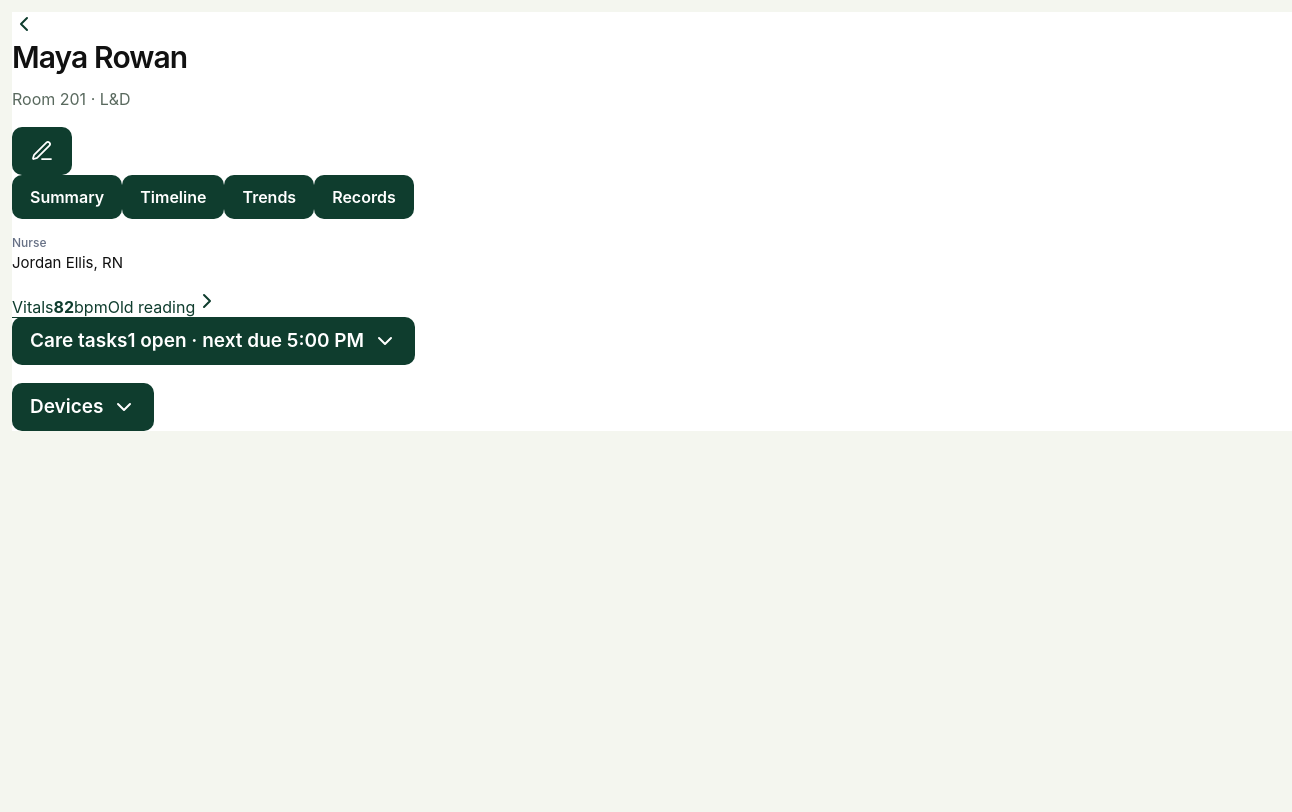
Test: Bedside mobile redesign › exposes pending-task summaries and existing task actions
Step 1. Click the button "Care tasks1 open · next due 5:00 PM" → (214, 341), box [12,317,415,365]
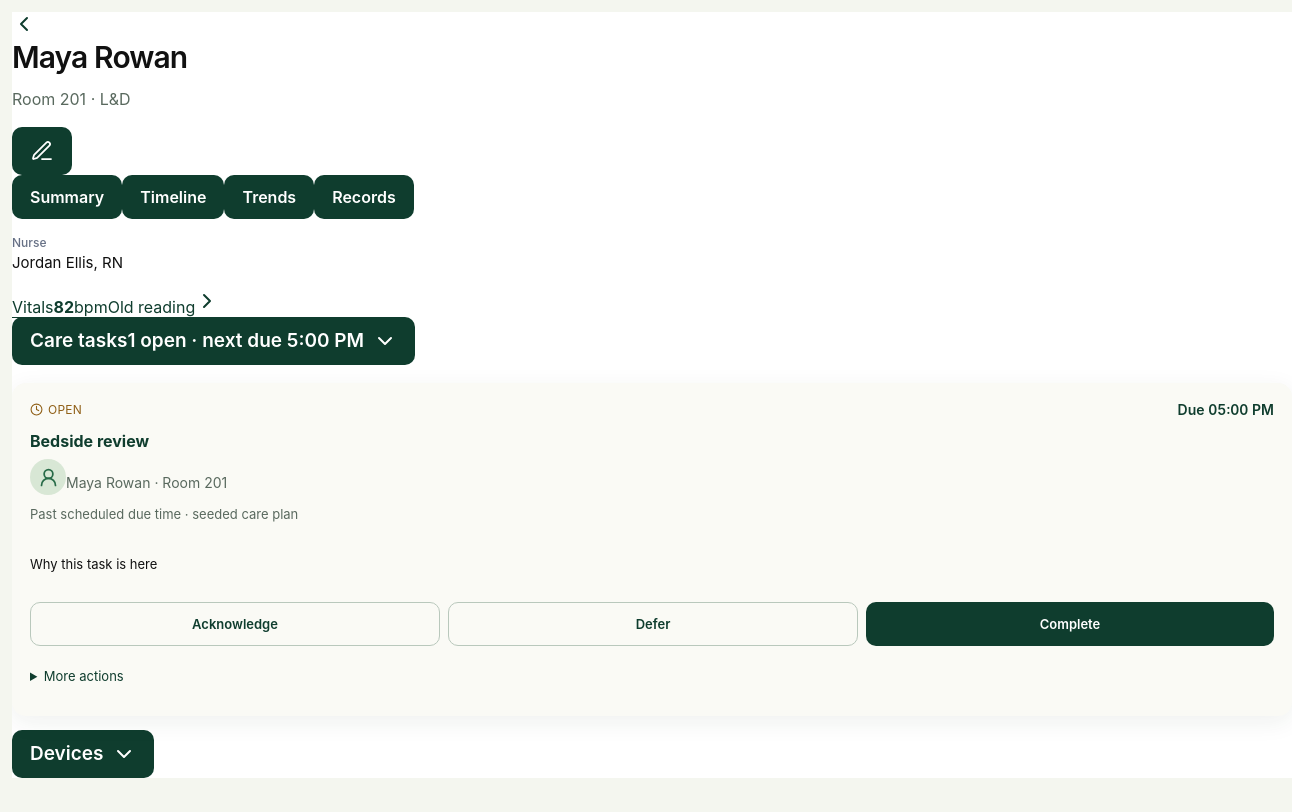
expect the button "Acknowledge" is shown: met, box [30,602,440,646]
expect the button "Complete" is shown: met, box [866,602,1274,646]
expect the button "Defer" is shown: met, box [448,602,858,646]
